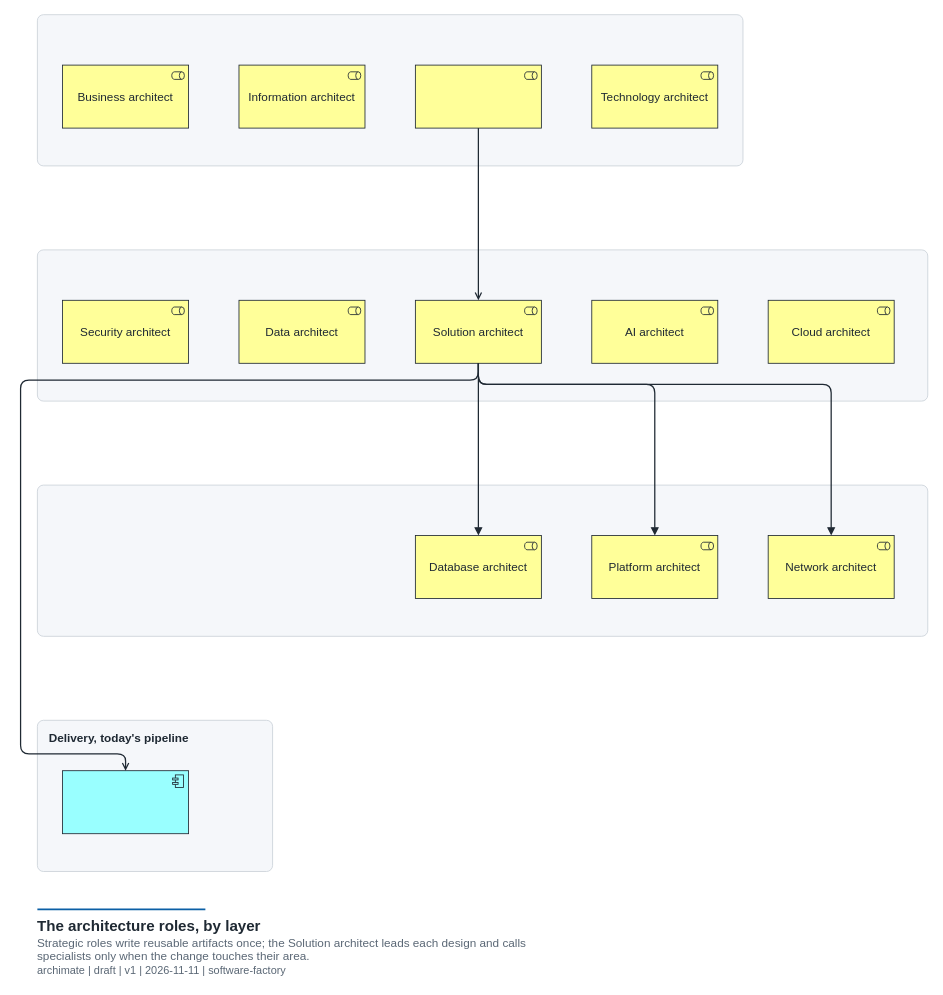
The diagram is 943 pixels wide and 995 high, and some of its shapes have lost their labels. The box of each missing label's shape, as (x1, y1, x2, y2) in pixels:
/factory-build agents: (62, 770, 189, 834)
A. Strategic: per initiative or quarter: (37, 14, 743, 166)
B. Design: per epic or significant change: (37, 249, 928, 401)
C. Specialists: only when triggered: (37, 484, 928, 636)
Enterprise architect: (415, 64, 541, 128)
